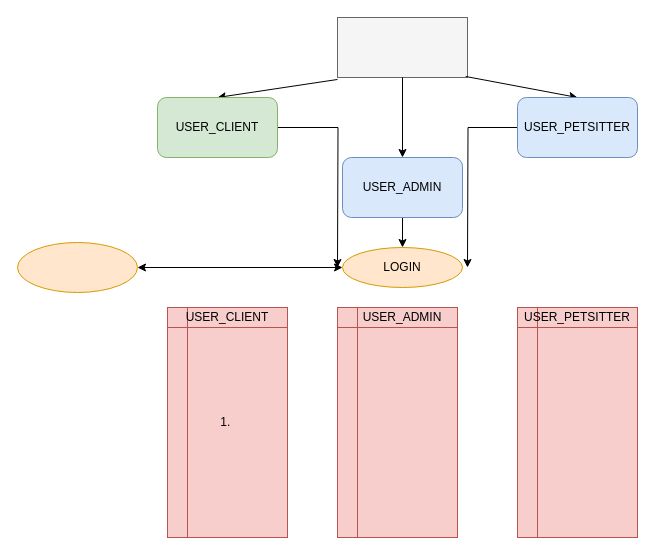
Some shapes in this 655 by 555 pixel diagram are drawn without their labels. The centre of each missing label's shape, as x and y in pixels:
"REGISTER AS : CLIENT OR PETSITTER" goes at pixel 77 267.
"USER_INTERFACE" goes at pixel 402 47.
